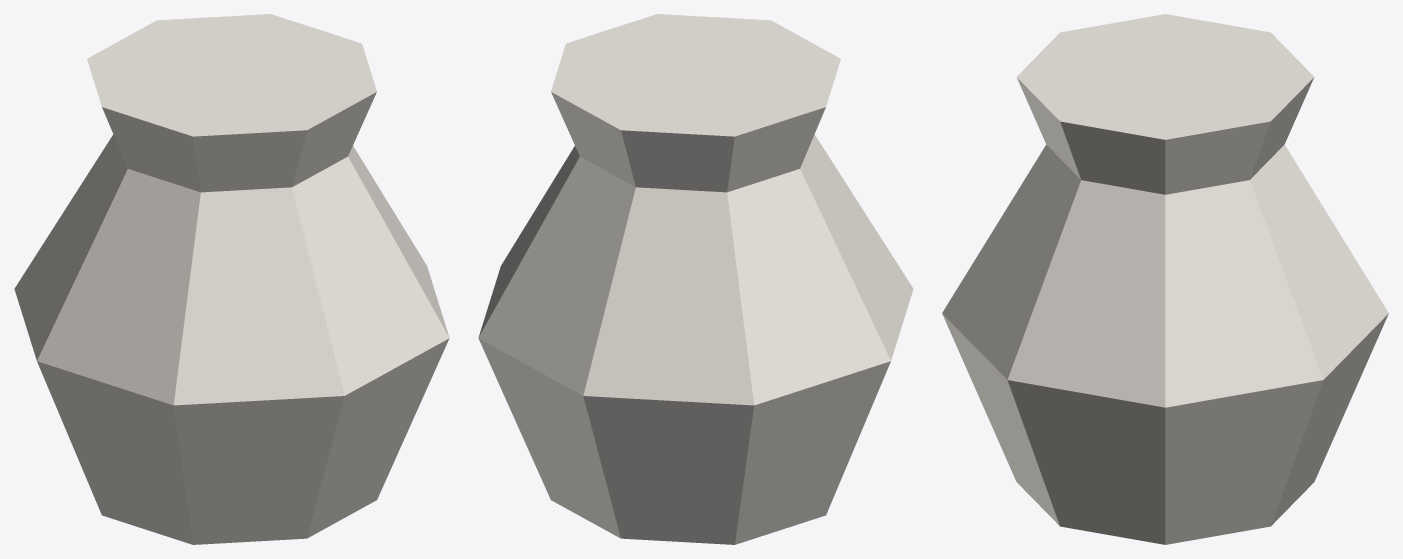
File: loot_trinket.glb
The picture shows the model from 3 angles, left to right: view 1: azimuth 30°, elevation 25°; view 2: azimuth 150°, elevation 25°; view 3: azimuth 270°, elevation 25°; orthographic projection.
Visible parts, largest first — view 1: item; view 2: item; view 3: item.
Boxes of the visible parts, left/top/right/bottom form: item: left=14, top=14, right=449, bottom=544; item: left=478, top=14, right=913, bottom=544; item: left=942, top=14, right=1388, bottom=544.
Bounding box in the file's own units: 0.06 × 0.06 × 0.06.
1 material, 1 textured.
